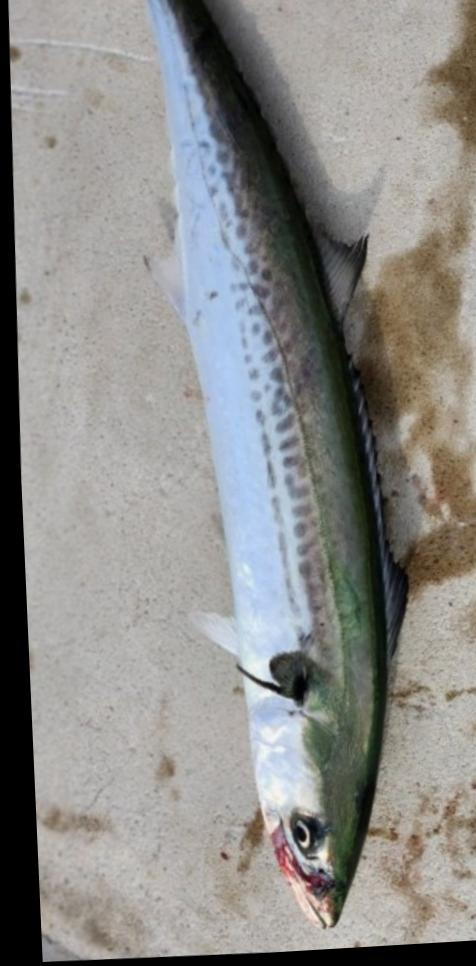fish: (142, 0, 418, 932)
